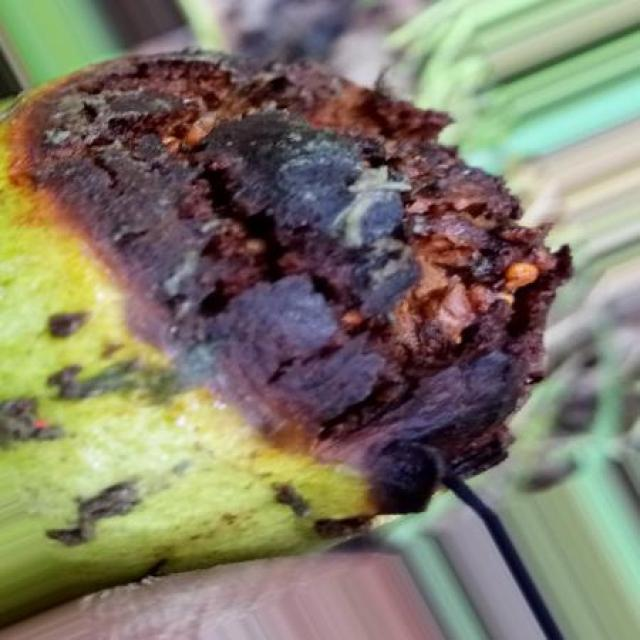Phytopthora: (0, 52, 571, 623)
